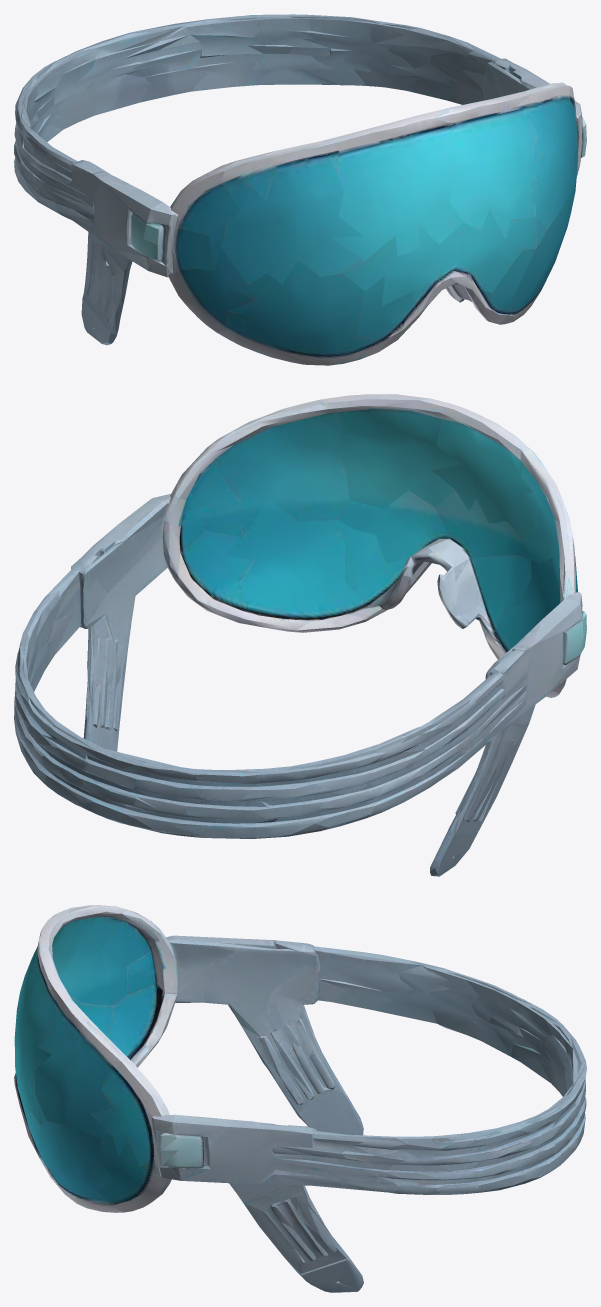
Rendered from pop-3d.glb.
3 views of the same model, one above another, from view 1: azimuth 30°, elevation 25°; view 2: azimuth 150°, elevation 25°; view 3: azimuth 270°, elevation 25° (orthographic). The views are drawn at different scales.
Visible parts, largest first — view 1: mesh_node; view 2: mesh_node; view 3: mesh_node.
Part boxes in pixels (x1,y1,x2,y2): mesh_node: [14, 14, 586, 365]; mesh_node: [14, 394, 586, 876]; mesh_node: [14, 905, 586, 1292].
Size of the model in its own units: 1.51 by 1.01 by 1.9.
1 material, 1 textured.
